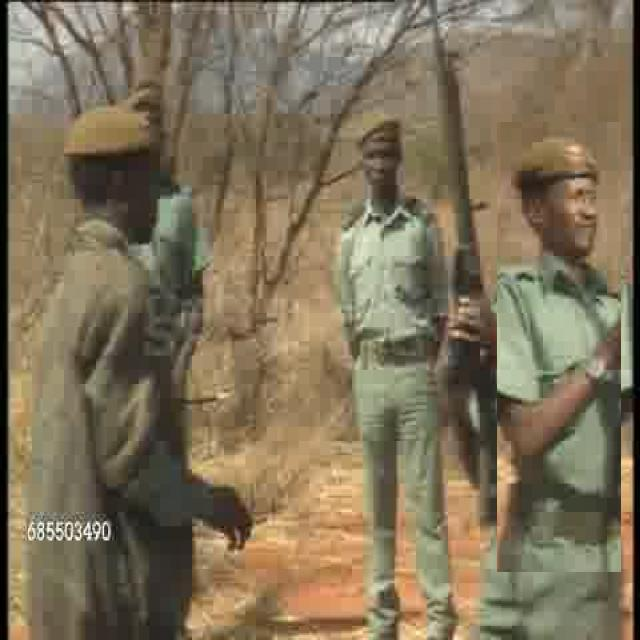poacher: (44, 101, 207, 612), (498, 122, 622, 572), (336, 121, 427, 635)
weapon: (427, 7, 485, 535)
